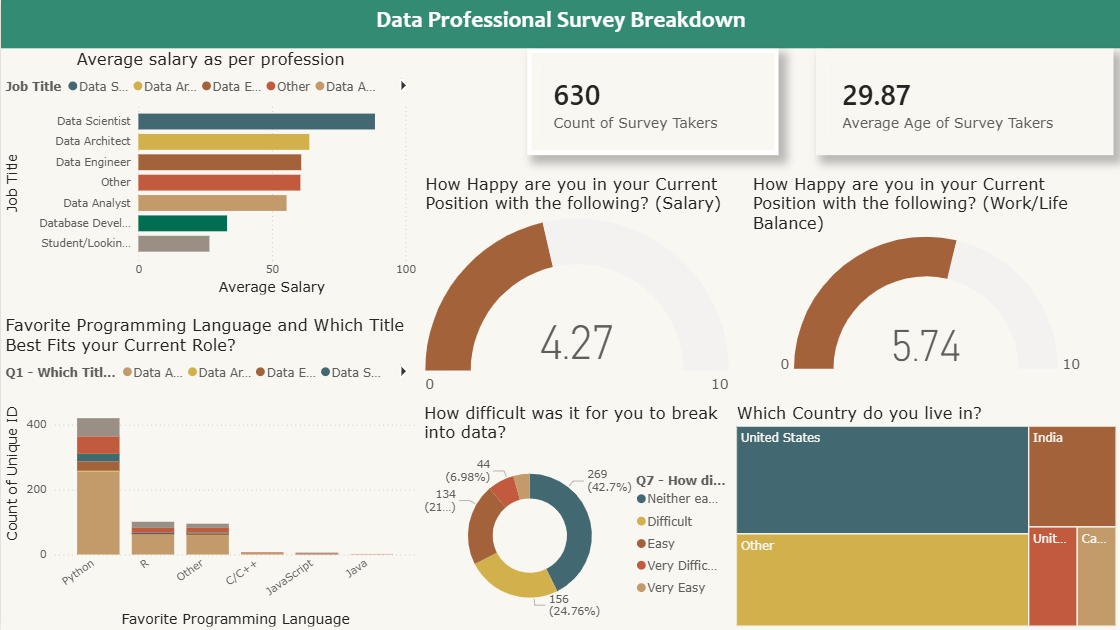

Layout of this report page (visuals, bound fields, positions):
{"tool":"powerbi","page":{"name":"Page 1","canvas":[1280,720],"ordinal":0},"visuals":[{"type":"barChart","title":"Average salary as per profession ","fields":{"Category":["Data Professional Survey.Q1 - Which Title Best Fits your Current Role?.1"],"Y":["Avg(Data Professional Survey.Average Salary)"],"Series":["Data Professional Survey.Q1 - Which Title Best Fits your Current Role?.1"]},"box":[0,55.3,479.4,285.8],"z":0},{"type":"textbox","box":[0,0,1280.3,55.3],"z":1000},{"type":"cardVisual","fields":{"Data":["Count(Data Professional Survey.Unique ID)"]},"box":[602,55.5,287.1,121.9],"z":2000},{"type":"cardVisual","fields":{"Data":["Avg(Data Professional Survey.Q10 - Current Age)"]},"box":[931.4,55.5,340.2,121.9],"z":3000},{"type":"columnChart","title":"Favorite Programming Language and Which Title Best Fits your Current Role?","fields":{"Category":["Data Professional Survey.Q5 - Favorite Programming Language.1"],"Y":["CountNonNull(Data Professional Survey.Unique ID)"],"Series":["Data Professional Survey.Q1 - Which Title Best Fits your Current Role?.1"]},"box":[0,359.6,479.4,360.9],"z":4000},{"type":"treemap","title":"Which Country do you live in?","fields":{"Group":["Data Professional Survey.Q11 - Which Country do you live in?.1"],"Values":["CountNonNull(Data Professional Survey.Q11 - Which Country do you live in?.1)"]},"box":[836.4,459.7,443.9,260.8],"z":5000},{"type":"gauge","title":"How Happy are you in your Current Position with the following? (Work/Life Balance)","fields":{"Y":["Avg(Data Professional Survey.Q6 - How Happy are you in your Current Position with the following? (Work/Life Balance))"],"MinValue":["Min(Data Professional Survey.Q6 - How Happy are you in your Current Position with the following? (Work/Life Balance))1"],"MaxValue":["Max(Data Professional Survey.Q6 - How Happy are you in your Current Position with the following? (Work/Life Balance))2"]},"box":[854.8,198.9,416.2,233.1],"z":6000},{"type":"gauge","title":"How Happy are you in your Current Position with the following? (Salary)","fields":{"Y":["Avg(Data Professional Survey.Q6 - How Happy are you in your Current Position with the following? (Salary))"],"MinValue":["Min(Data Professional Survey.Q6 - How Happy are you in your Current Position with the following? (Salary))"],"MaxValue":["Max(Data Professional Survey.Q6 - How Happy are you in your Current Position with the following? (Salary))"]},"box":[479.4,198.9,356.9,260.8],"z":7000},{"type":"donutChart","title":"How difficult was it for you to break into Data? ","fields":{"Category":["Data Professional Survey.Q7 - How difficult was it for you to break into Data?"],"Y":["CountNonNull(Data Professional Survey.Q7 - How difficult was it for you to break into Data?)"]},"box":[479,460,357,260],"z":8000}]}

Visuals, with their boxes in screenshot pixels (x1, y1, x2, y2), scaled from the page's 1280x720 canvas onto the 1120x630 screenshot:
"Average salary as per profession " barChart: select_region(0, 48, 419, 298)
textbox: select_region(0, 0, 1119, 48)
cardVisual - Count(Data Professional Survey.Unique ID): select_region(527, 49, 778, 155)
cardVisual - Avg(Data Professional Survey.Q10 - Current Age): select_region(815, 49, 1113, 155)
"Favorite Programming Language and Which Title Best Fits your Current Role?" columnChart: select_region(0, 315, 419, 629)
"Which Country do you live in?" treemap: select_region(732, 402, 1119, 629)
"How Happy are you in your Current Position with the following? (Work/Life Balance)" gauge: select_region(748, 174, 1112, 378)
"How Happy are you in your Current Position with the following? (Salary)" gauge: select_region(419, 174, 732, 402)
"How difficult was it for you to break into Data? " donutChart: select_region(419, 402, 732, 629)
